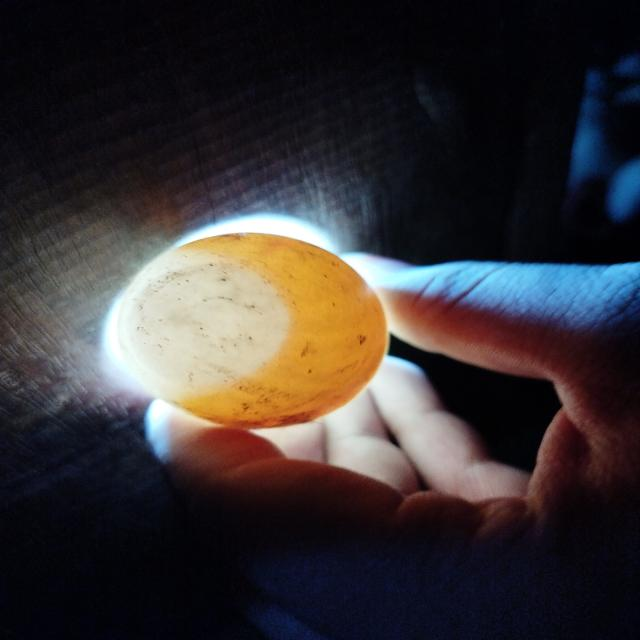Camara de Ar: (121, 251, 287, 397)
